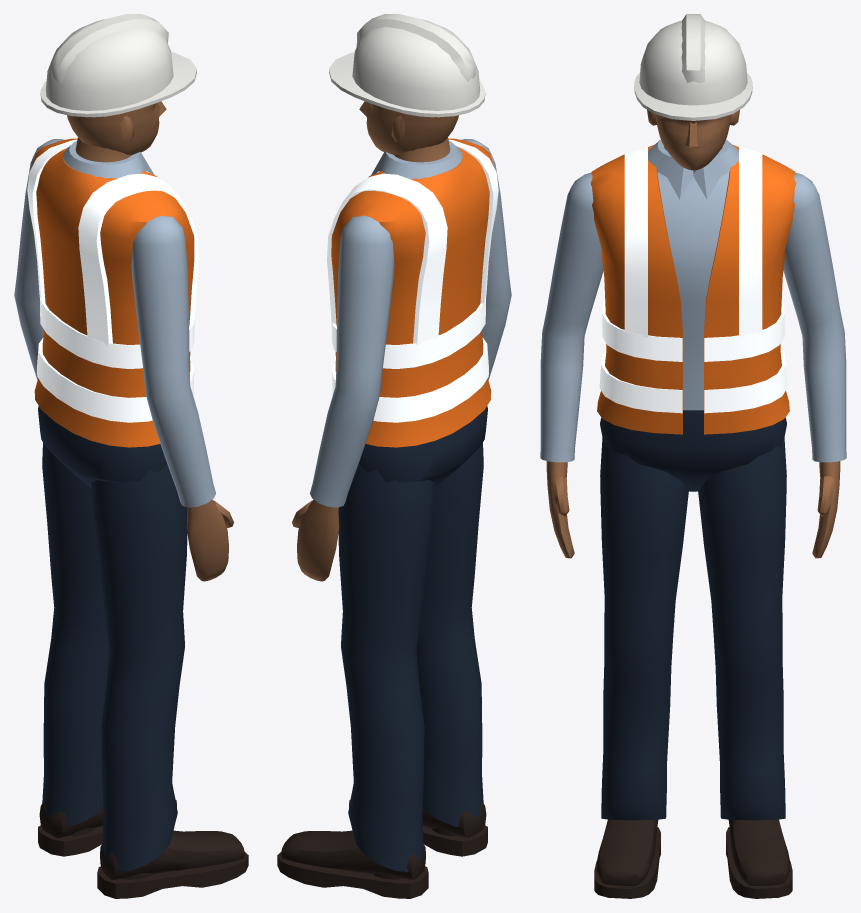
The model's file is trabajador.glb.
3 views of the same model, side by side, from view 1: azimuth 30°, elevation 25°; view 2: azimuth 150°, elevation 25°; view 3: azimuth 270°, elevation 25° (orthographic).
Visible parts, largest first — view 1: torso, leg_R, leg_L, arm_R, head, arm_L; view 2: torso, leg_L, leg_R, arm_L, head, arm_R; view 3: torso, leg_L, leg_R, arm_R, arm_L, head.
Part boxes in pixels (x1,y1,x2,y2): torso: [27, 137, 198, 487]; leg_R: [91, 464, 248, 898]; leg_L: [38, 442, 176, 856]; arm_R: [131, 215, 233, 581]; head: [40, 14, 196, 154]; arm_L: [14, 139, 64, 380]; torso: [327, 137, 498, 487]; leg_L: [277, 464, 434, 898]; leg_R: [349, 442, 487, 856]; arm_L: [292, 215, 394, 581]; head: [329, 14, 485, 154]; arm_R: [461, 139, 511, 380]; torso: [590, 139, 796, 491]; leg_L: [698, 437, 792, 898]; leg_R: [594, 437, 688, 898]; arm_R: [540, 173, 603, 558]; arm_L: [783, 173, 846, 558]; head: [634, 14, 752, 170].
Bounding box in the file's own units: 0.355 × 1.77 × 0.5892.
